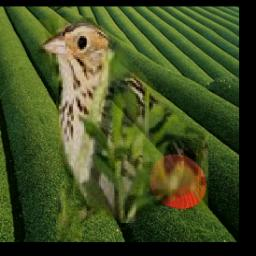Sparrow: (38, 18, 209, 242)
